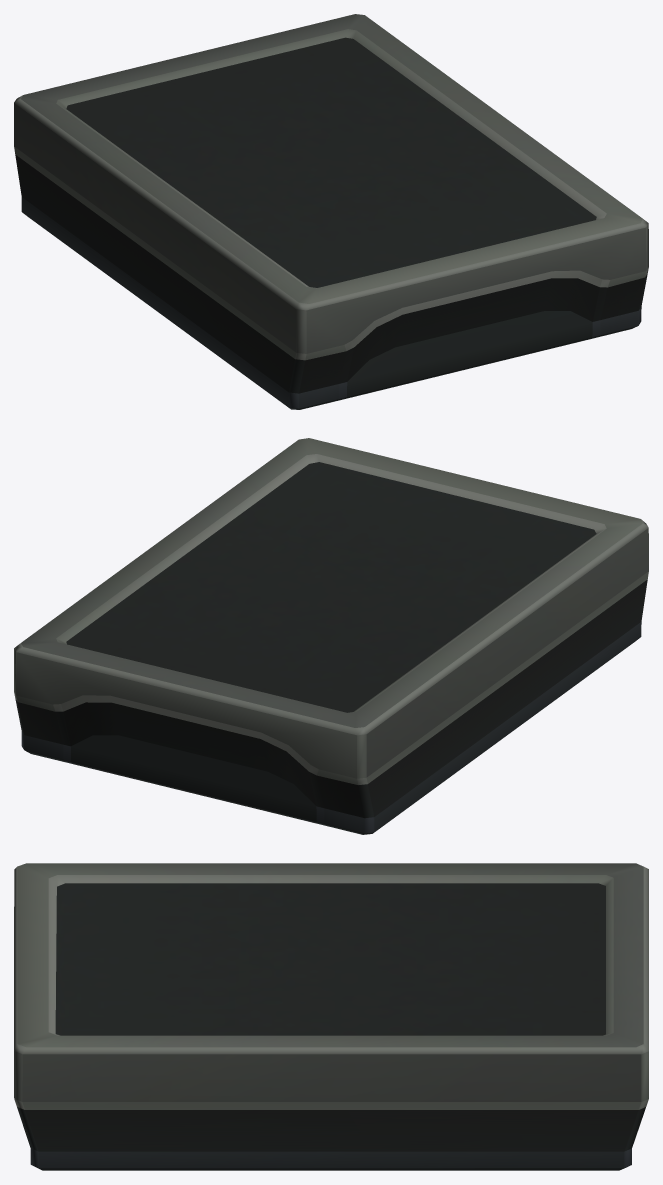
File: appartment_type1_roof_type1_x3_cream.fbx
The picture shows the model from 3 angles, top to bottom: view 1: azimuth 30°, elevation 25°; view 2: azimuth 150°, elevation 25°; view 3: azimuth 270°, elevation 25°; orthographic projection. The views are drawn at different scales.
Parts seen in each view (by area): view 1: appartment_type1_roof_type1_x3_cream; view 2: appartment_type1_roof_type1_x3_cream; view 3: appartment_type1_roof_type1_x3_cream.
Boxes of the visible parts, <box> form: appartment_type1_roof_type1_x3_cream: <box>14,14,648,409</box>; appartment_type1_roof_type1_x3_cream: <box>14,438,648,834</box>; appartment_type1_roof_type1_x3_cream: <box>14,863,648,1170</box>.
Bounding box in the file's own units: 610 × 186 × 867.
